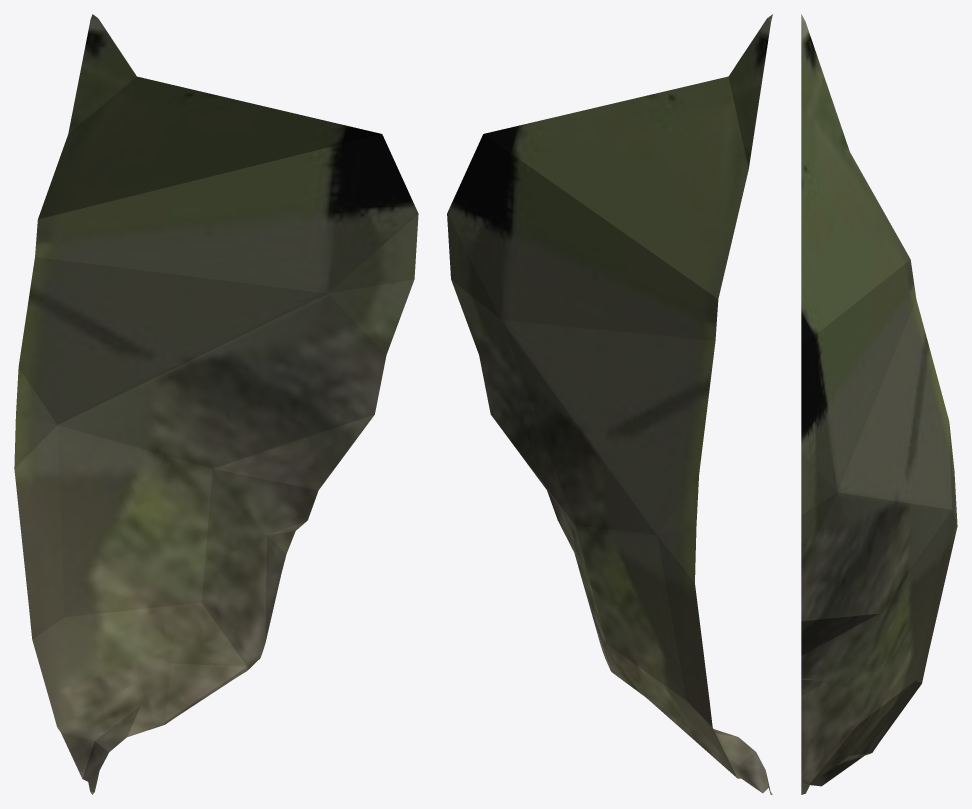
3 views of the same model, side by side, from view 1: azimuth 30°, elevation 25°; view 2: azimuth 150°, elevation 25°; view 3: azimuth 270°, elevation 25° (orthographic).
Bounding box in the file's own units: 3.94 × 9.01 × 1.63.
1 material, 1 textured.
